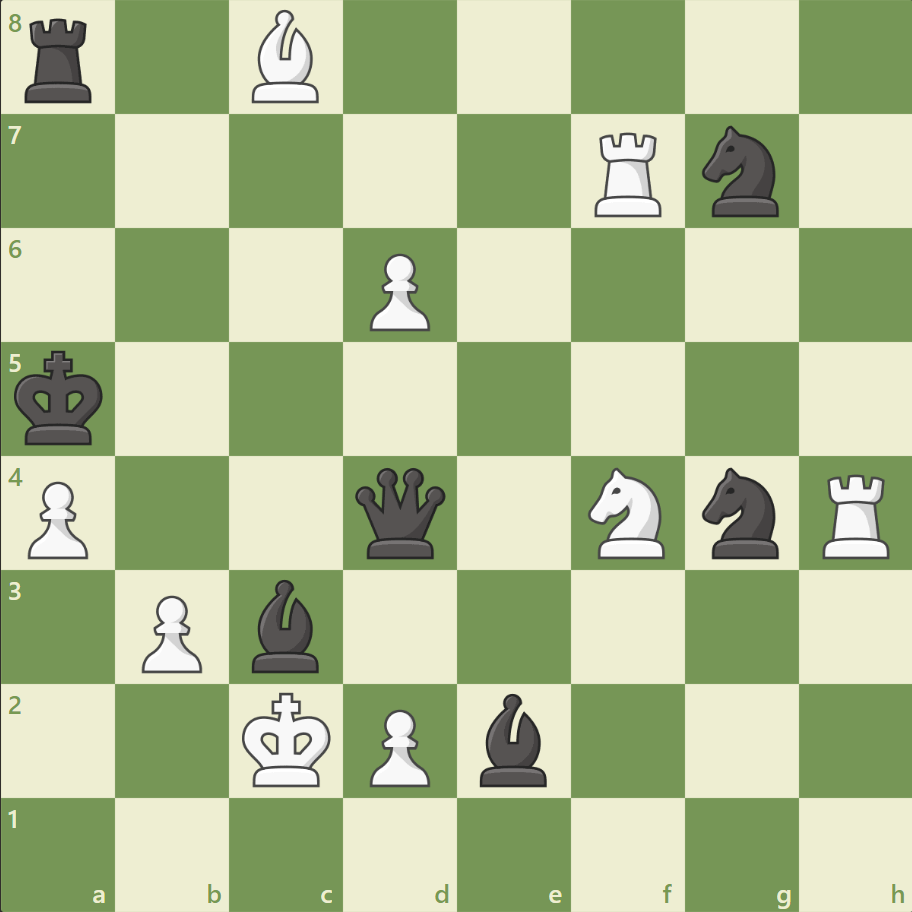B: (244, 6, 328, 109)
K: (238, 685, 338, 793)
N: (579, 461, 676, 564)
P: (20, 473, 95, 564), (133, 586, 208, 677), (361, 246, 435, 337), (361, 700, 435, 791)
R: (587, 125, 670, 222), (814, 466, 897, 563)
b: (471, 687, 555, 790), (244, 574, 328, 676)
k: (11, 344, 111, 452)
n: (692, 461, 789, 564), (692, 121, 789, 223)
q: (351, 463, 450, 562)
r: (19, 12, 102, 109)
